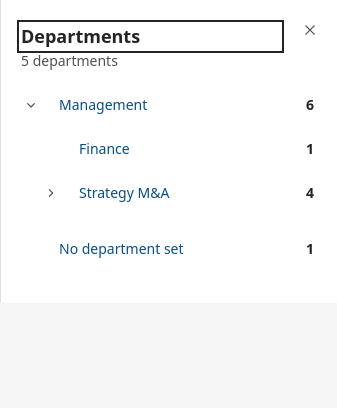
it: DepartmentsPanel › unfolds and folds the departments below a department from its disclosure button
What coordinates should you click on to do the following:
click the button named "Departments in Strategy M&A"
I would click on:
 (51, 193)
Its box is [29, 171, 73, 215].
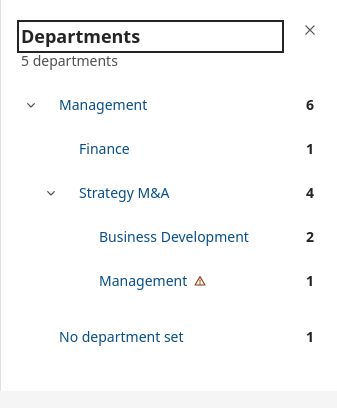
Expected: the button named "Management 1 person also higher up its path" is shown, [93, 259, 320, 303]
What coordinates should you click on to do the following:
click the button named "Departments in Strategy M&A"
I would click on:
 (51, 193)
Its box is [29, 171, 73, 215].
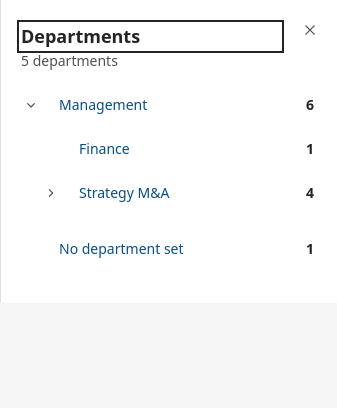
Expected: the button "Business Development" is gone
